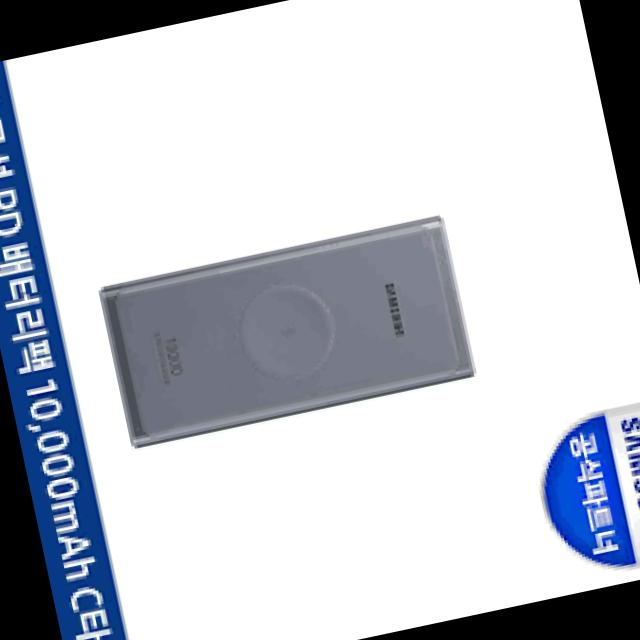portable-charger: (91, 210, 478, 453)
